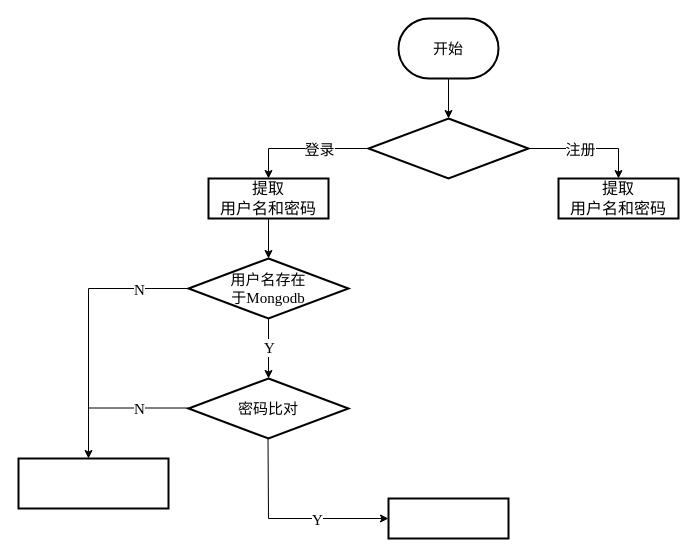
The diagram is 696 pixels wide and 556 high, and some of its shapes have lost their labels. Each missing label, with the centre of its shape:
提示“登录失败，请检查用户名和密码”: the point at 93,483
点击登录 or 注册: the point at 448,148
问答界面: the point at 448,518
